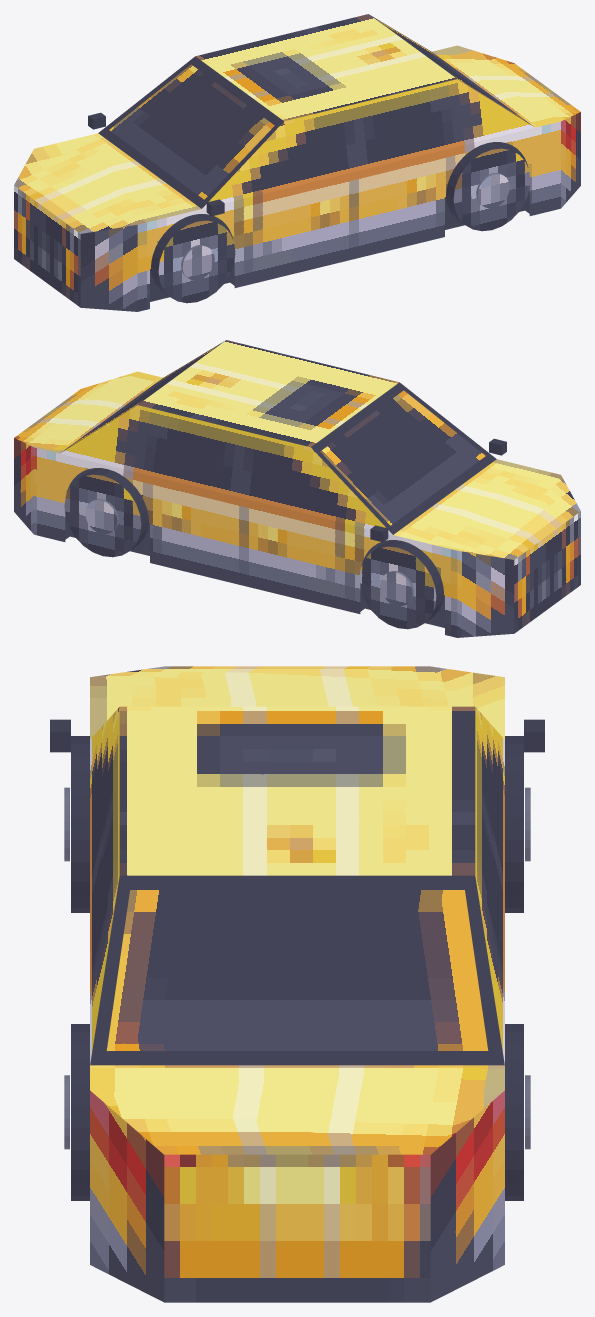
File: car-11-v1.glb
3 views of the same model, one above another, from view 1: azimuth 30°, elevation 25°; view 2: azimuth 150°, elevation 25°; view 3: azimuth 270°, elevation 25° (orthographic). The views are drawn at different scales.
Visible parts, largest first — view 1: Passenger-body-west, Cabin-windows-west, Roof, Windshield-glass, Hood, Front-fascia, Tire_FL, Tire_RL, Trunk, Front-corner--1, Windshield-frame, Rear-corner--1 (+6 smaller); view 2: Passenger-body-east, Cabin-windows-east, Roof, Windshield-glass, Hood, Front-fascia, Tire_FR, Tire_RR, Trunk, Front-corner-1, Windshield-frame, Rear-corner-1 (+6 smaller); view 3: Roof, Rear-window-glass, Rear-fascia, Trunk, Hood, Rear-window-frame, Rear-corner-1, Rear-corner--1, Cabin-windows-east, Cabin-windows-west, Tire_FL, Tire_FR (+2 smaller).
Boxes of the visible parts, x1,y1,x2,y2 form: Passenger-body-west: (137,121,560,311); Cabin-windows-west: (202,79,534,208); Roof: (195,14,456,121); Windshield-glass: (109,64,274,199); Hood: (14,133,200,233); Front-fascia: (14,185,80,307); Tire_FL: (151,214,235,303); Tire_RL: (446,142,530,231); Trunk: (432,45,580,127); Front-corner--1: (80,224,137,311); Windshield-frame: (98,56,283,208); Rear-corner--1: (561,112,580,208); Passenger-body-east: (34,447,457,637); Cabin-windows-east: (60,405,392,534); Roof: (138,340,399,447); Windshield-glass: (320,390,485,525); Hood: (394,459,580,559); Front-fascia: (514,511,580,633); Tire_FR: (359,540,443,629); Tire_RR: (64,468,148,557); Trunk: (14,371,162,453); Front-corner-1: (457,550,514,637); Windshield-frame: (311,382,496,534); Rear-corner-1: (14,438,33,534); Roof: (119,706,475,875); Rear-window-glass: (106,890,488,1050); Rear-fascia: (164,1154,430,1302); Trunk: (90,1065,504,1154); Hood: (90,666,504,739); Rear-window-frame: (90,875,504,1065); Rear-corner-1: (430,1090,504,1302); Rear-corner--1: (90,1090,164,1302); Cabin-windows-east: (475,707,504,1064); Cabin-windows-west: (90,707,119,1064); Tire_FL: (71,736,89,912); Tire_FR: (505,736,523,912).
Bounding box in the file's own units: 78 × 22 × 33.4.
Materials: 1 (1 with a texture image).
